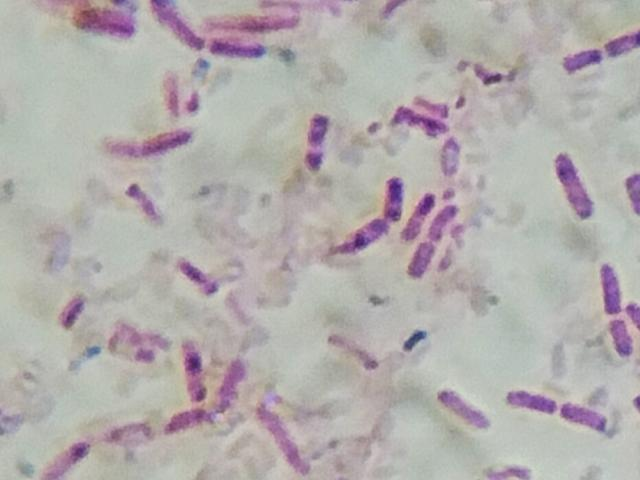E. coli: (252, 402, 307, 473), (553, 146, 594, 219), (339, 207, 395, 257), (436, 385, 488, 437), (213, 9, 298, 39), (108, 131, 194, 158), (122, 182, 167, 233), (302, 106, 336, 173), (74, 4, 136, 40), (391, 100, 450, 136), (556, 393, 609, 433), (156, 0, 200, 46), (403, 177, 433, 241), (505, 387, 556, 422), (596, 256, 626, 312), (376, 170, 408, 221), (554, 44, 600, 79), (178, 339, 208, 392), (123, 417, 175, 447), (36, 441, 76, 480), (602, 20, 640, 61), (216, 362, 249, 408), (61, 289, 94, 335), (173, 403, 217, 437), (210, 33, 269, 58), (159, 67, 191, 113), (405, 235, 434, 285), (181, 256, 216, 297), (428, 196, 457, 242), (365, 0, 411, 27), (436, 133, 464, 171), (607, 317, 632, 359)
